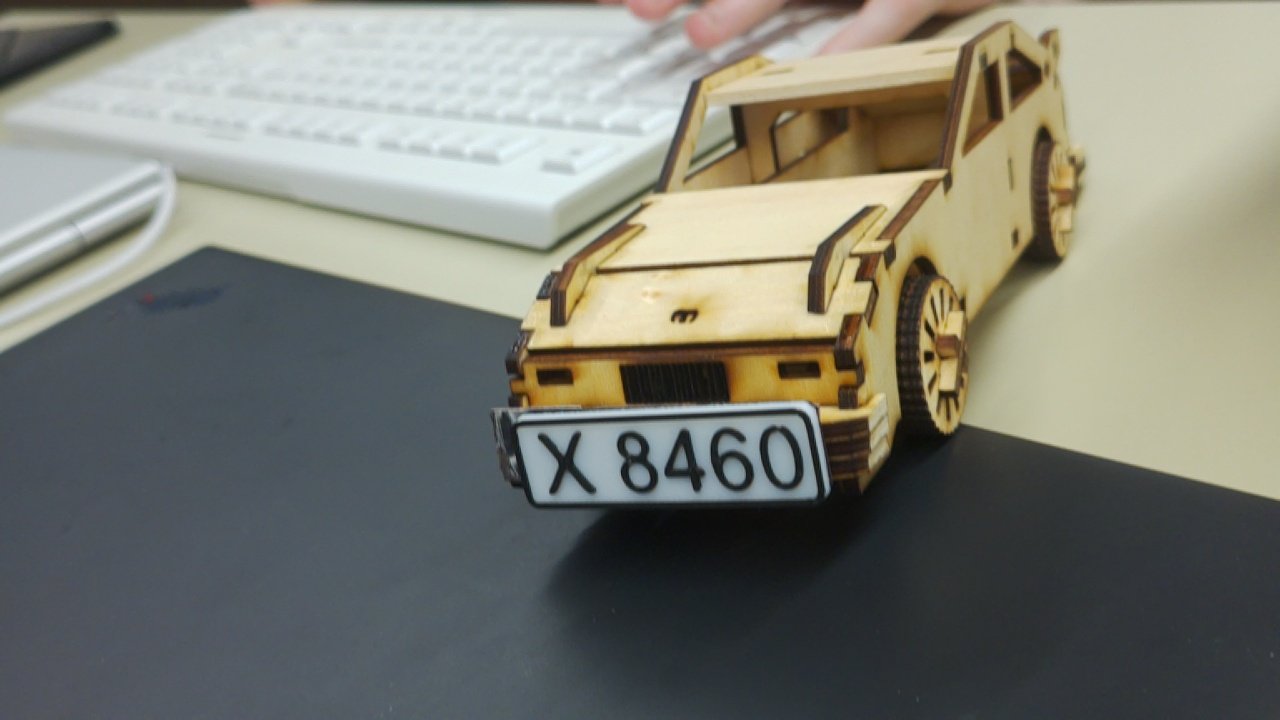license_plate: (501, 396, 843, 525)
